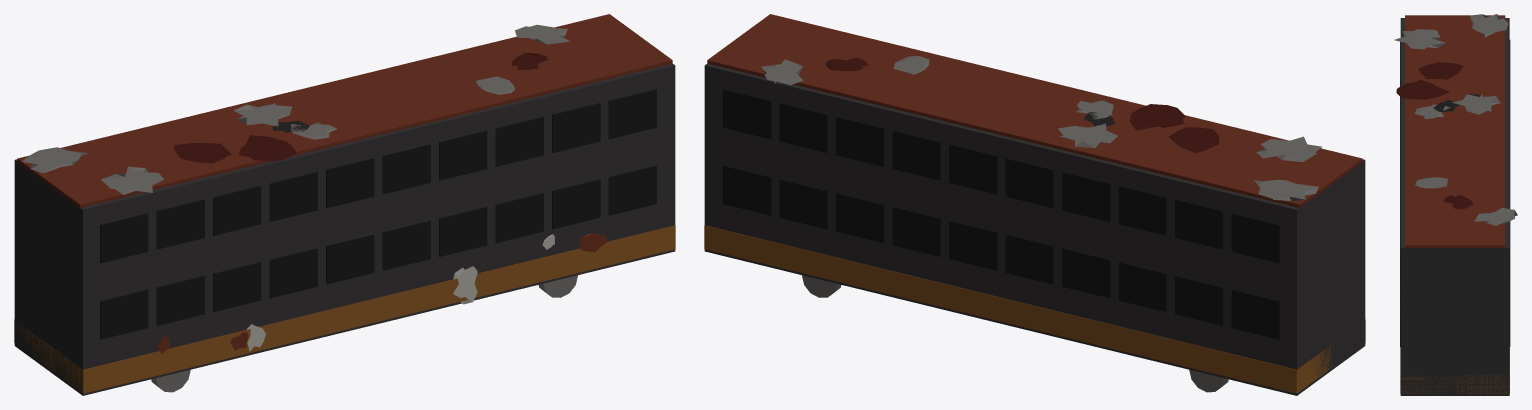
The model's file is downtown_deuce.glb.
3 renders of one model, left to right at view 1: azimuth 30°, elevation 25°; view 2: azimuth 150°, elevation 25°; view 3: azimuth 270°, elevation 25°, orthographic. The views are drawn at different scales.
Parts seen in each view (by area): view 1: downtown_deuce; view 2: downtown_deuce; view 3: downtown_deuce.
Boxes of the visible parts, x1=… form: downtown_deuce: x1=14, y1=14, x2=675, y2=395; downtown_deuce: x1=704, y1=14, x2=1365, y2=395; downtown_deuce: x1=1394, y1=14, x2=1517, y2=395.
Size of the model in its own units: 13.03 by 4.39 by 2.96.
